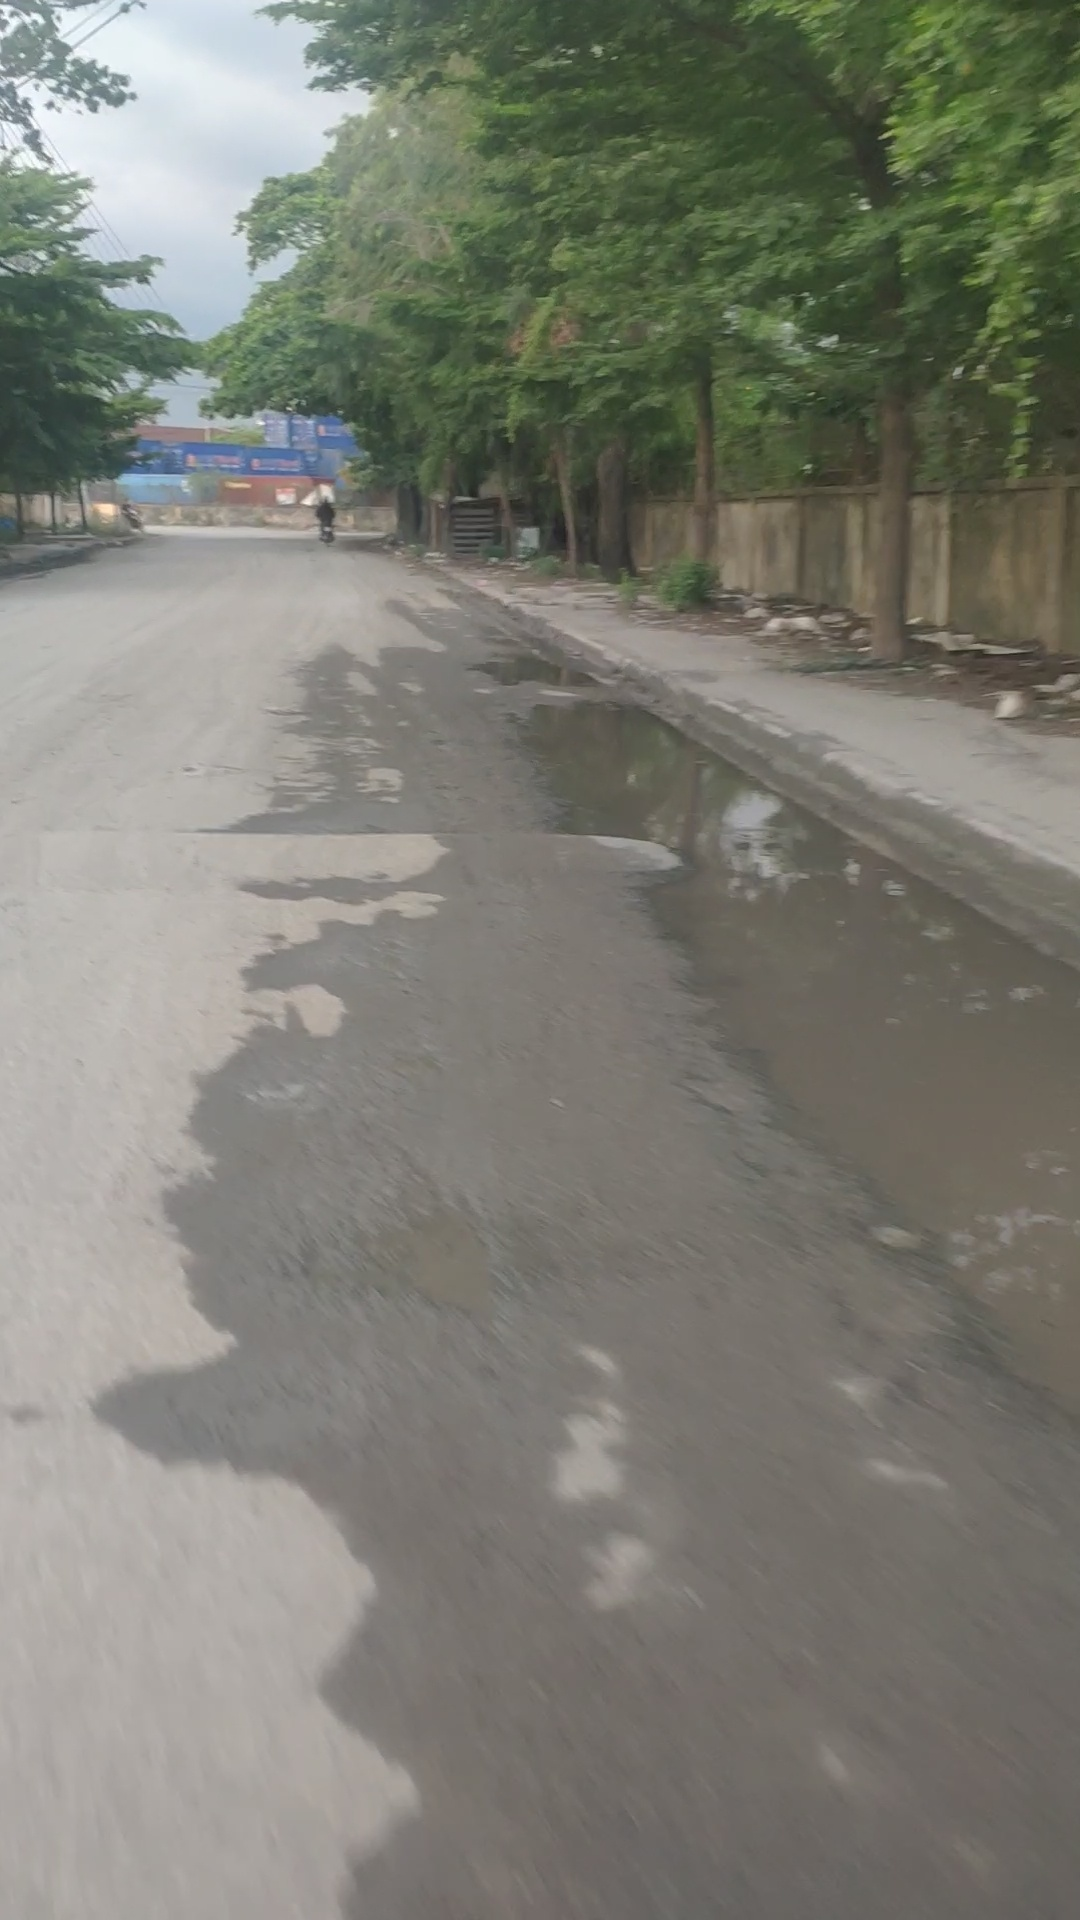hole: (311, 1180, 603, 1312)
